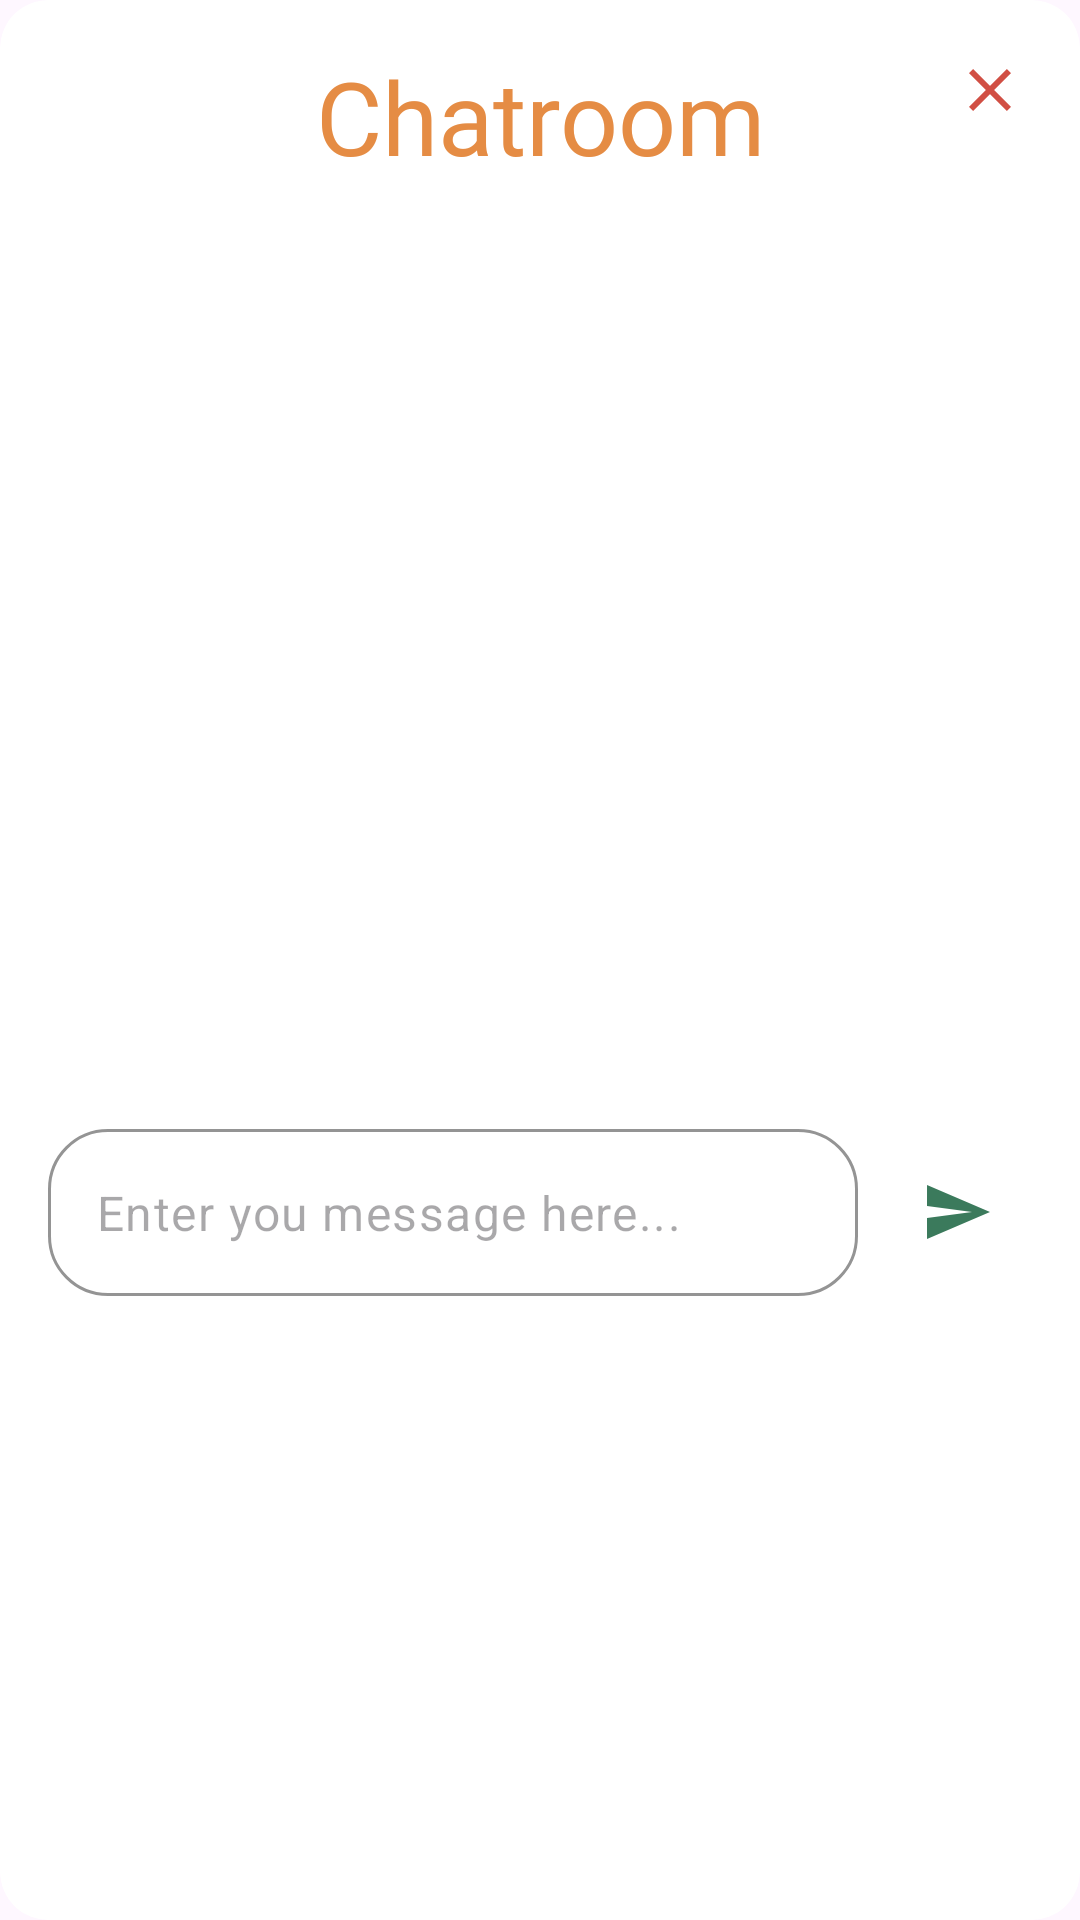

Screen size 1080x1920. Icon name, then its center in pixels as (x,y):
Close: (990,90)
Send Message: (958,1212)
